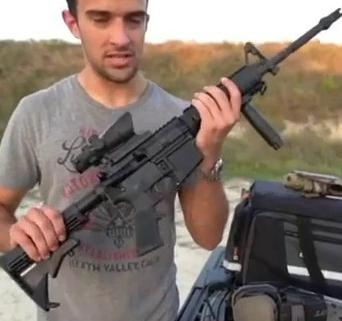gun: (1, 1, 342, 321)
